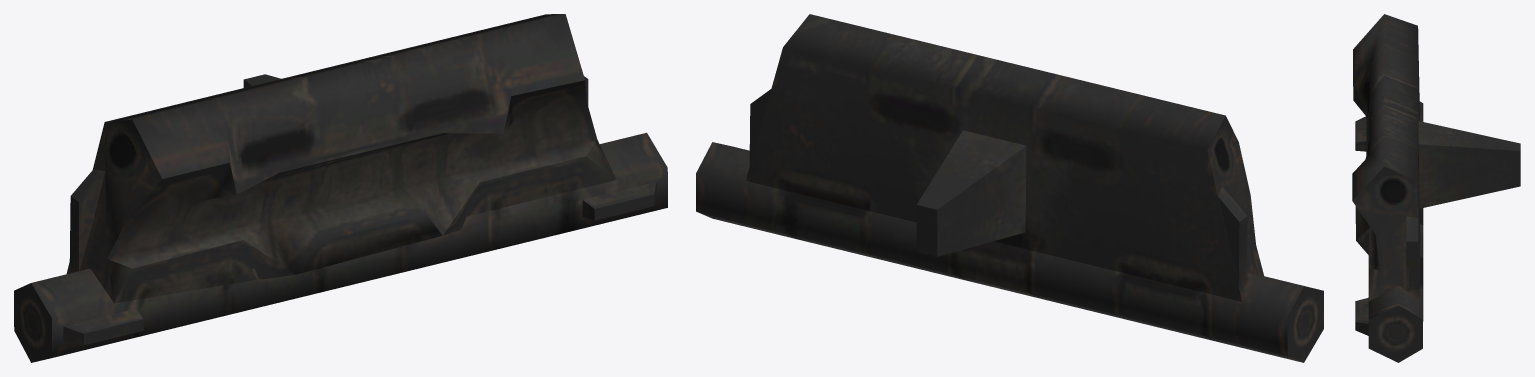
3 renders of one model, left to right at view 1: azimuth 30°, elevation 25°; view 2: azimuth 150°, elevation 25°; view 3: azimuth 270°, elevation 25°, orthographic. The views are drawn at different scales.
Visible parts, largest first — view 1: set_0_group_0; view 2: set_0_group_0; view 3: set_0_group_0.
Part boxes in pixels (box(x1,y1,x2,y2)): set_0_group_0: box(14, 14, 667, 362); set_0_group_0: box(696, 14, 1323, 362); set_0_group_0: box(1352, 14, 1520, 362).
Bounding box in the file's own units: 0.58 × 0.2054 × 0.1903.
Materials: 1 (1 with a texture image).
